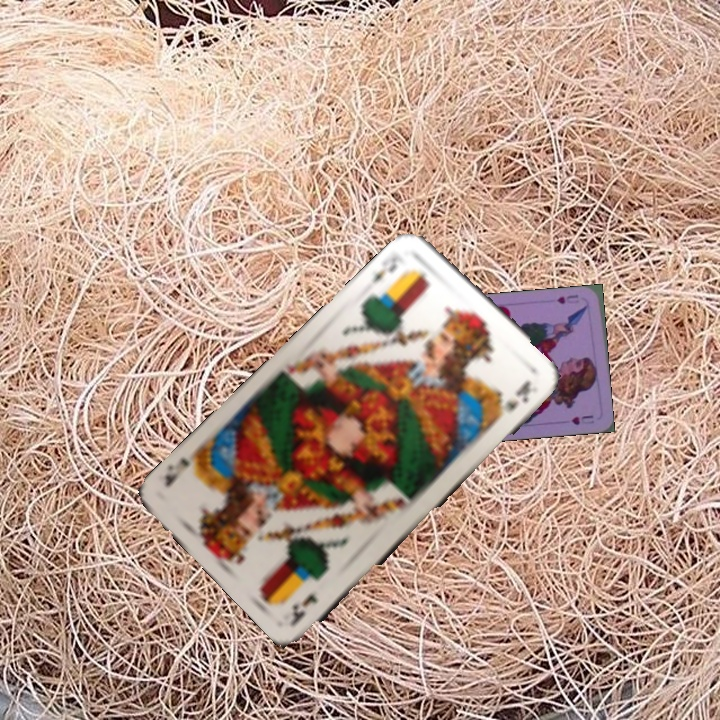EK: (367, 250, 409, 288), (288, 589, 321, 626)
HU: (552, 290, 581, 306)
